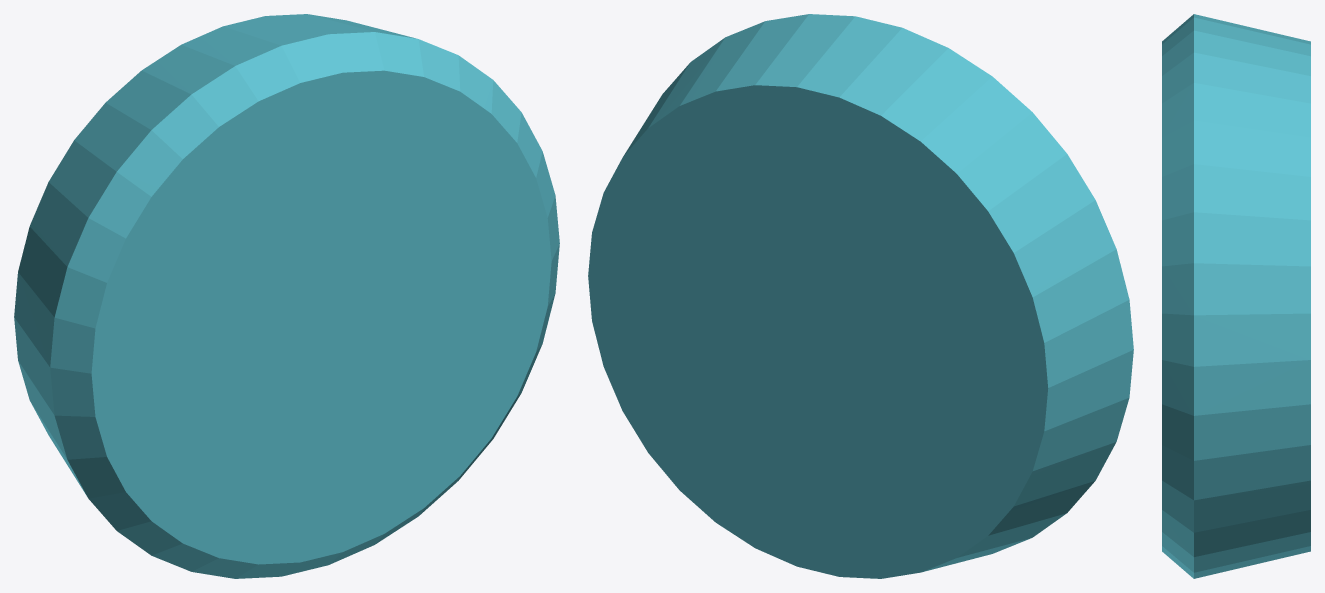
The model's file is forearm_E3M5_collision002.obj.
The picture shows the model from 3 angles, left to right: view 1: azimuth 30°, elevation 25°; view 2: azimuth 150°, elevation 25°; view 3: azimuth 270°, elevation 25°; orthographic projection. The views are drawn at different scales.
Bounding box in the file's own units: 0.1495 × 0.1489 × 0.0394.
